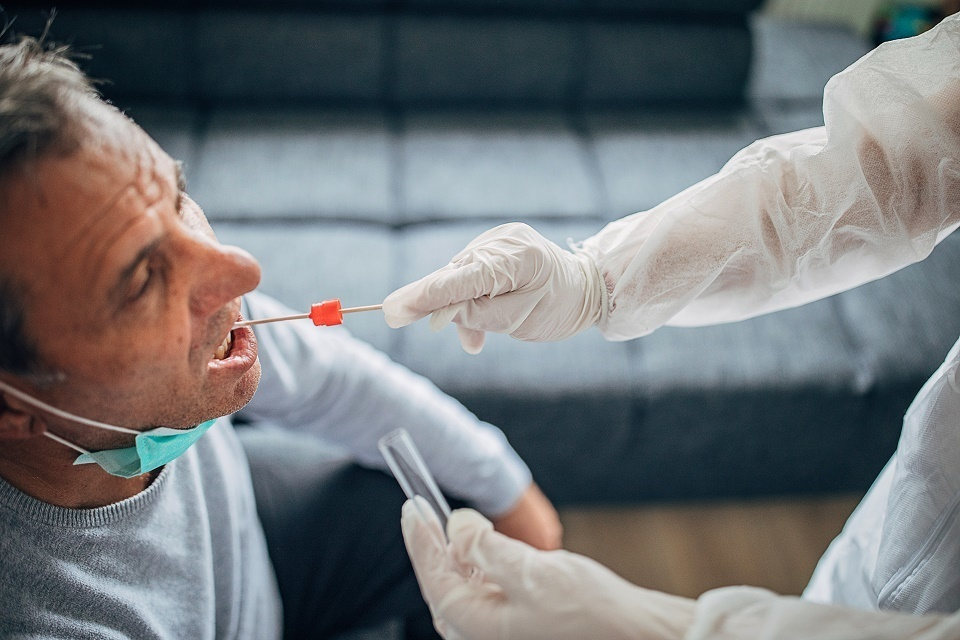Gloves: (392, 485, 700, 640), (362, 217, 602, 360)
mask_weared_incorrect: (99, 176, 269, 477)
